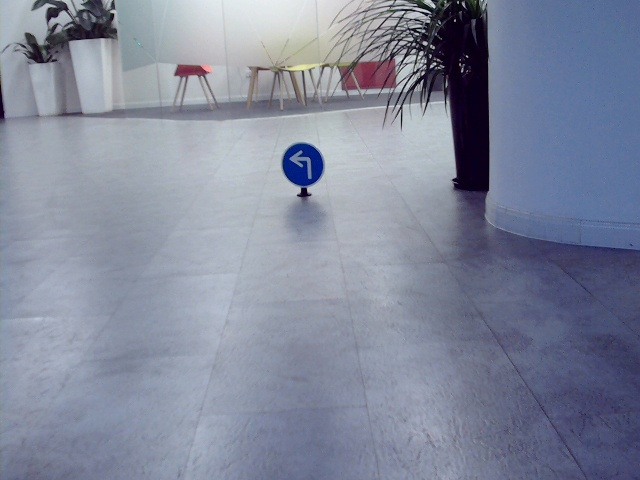turn_left: (286, 148, 313, 179)
